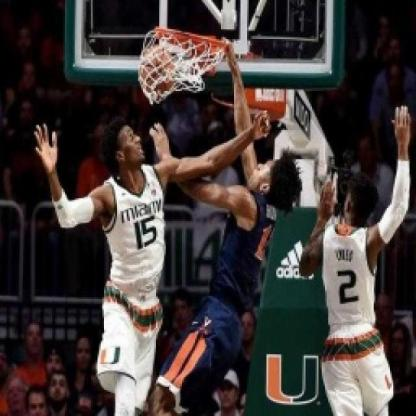basketball: (135, 46, 178, 96)
